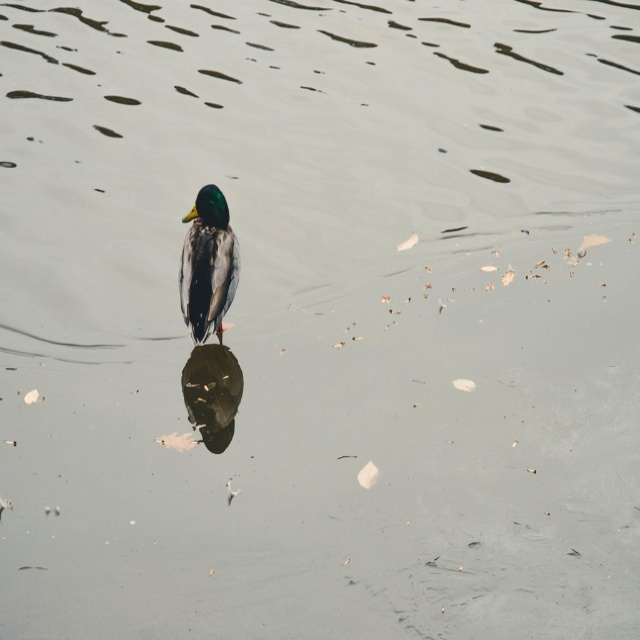Duck: (171, 176, 239, 356)
